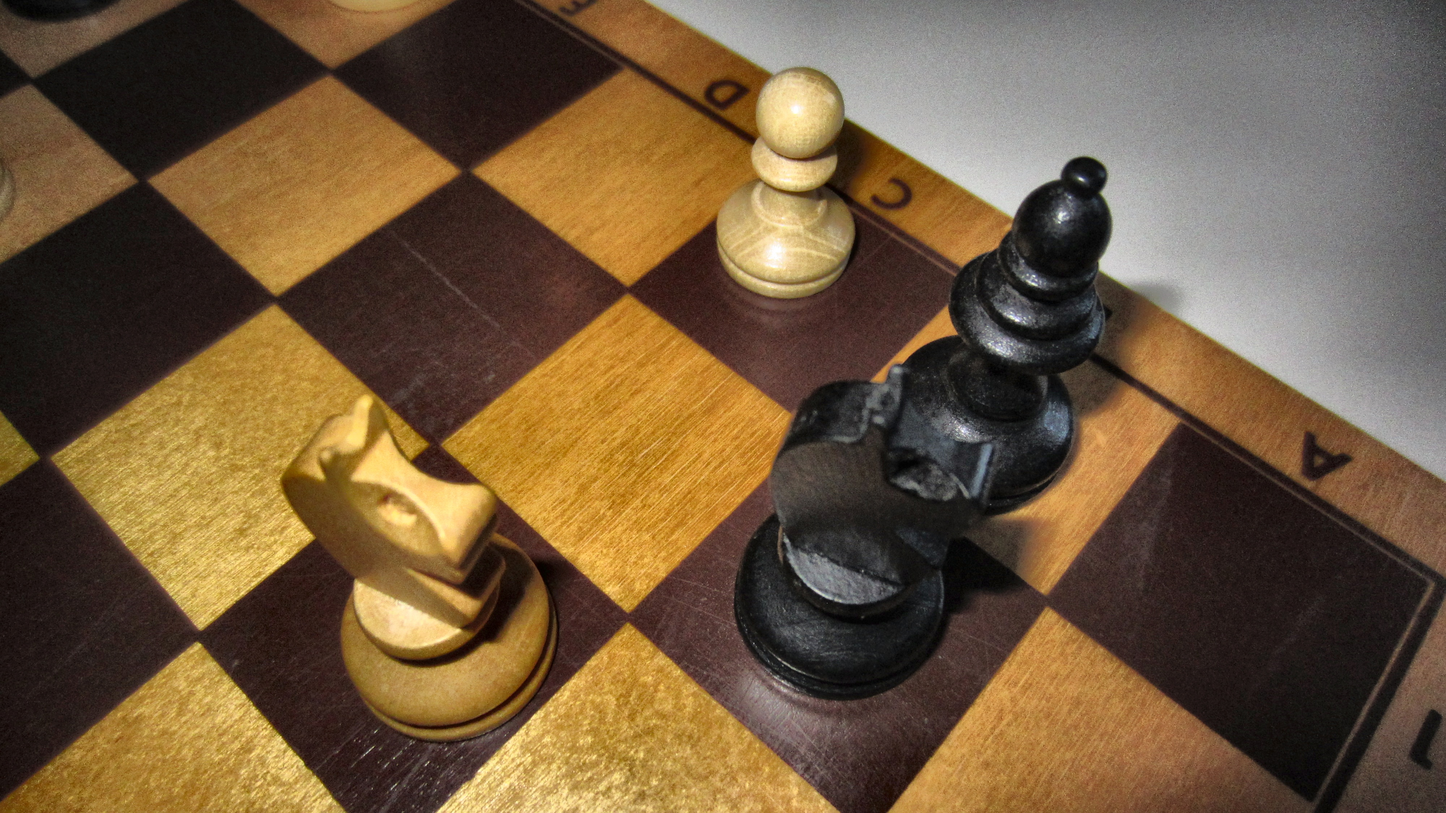black-bishop: (895, 156, 1115, 524)
black-knight: (730, 363, 996, 702)
white-knight: (276, 392, 559, 746)
white-pawn: (711, 63, 857, 301)
